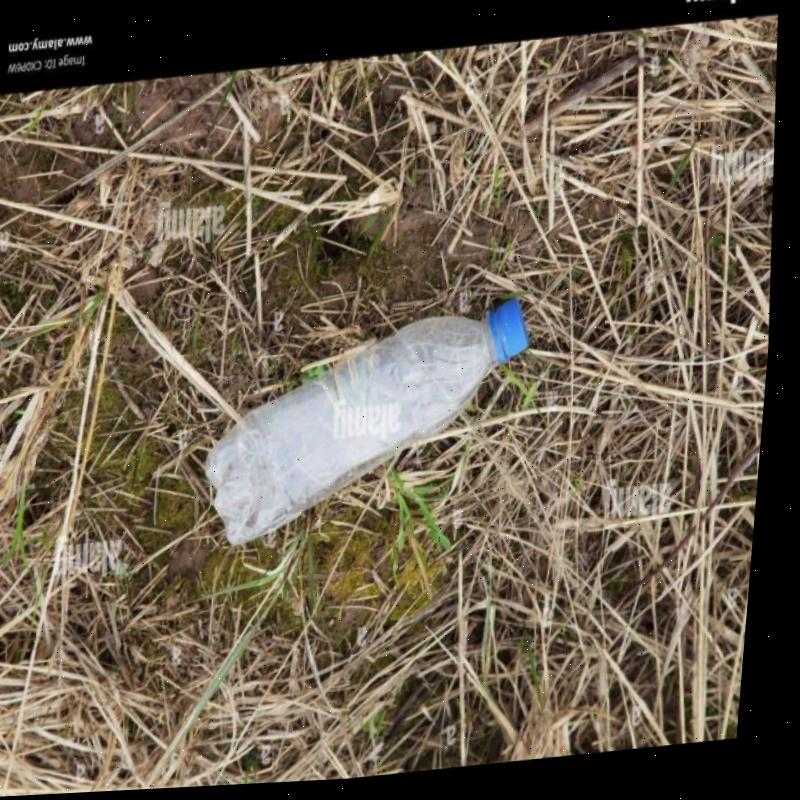botella: (199, 294, 552, 554)
